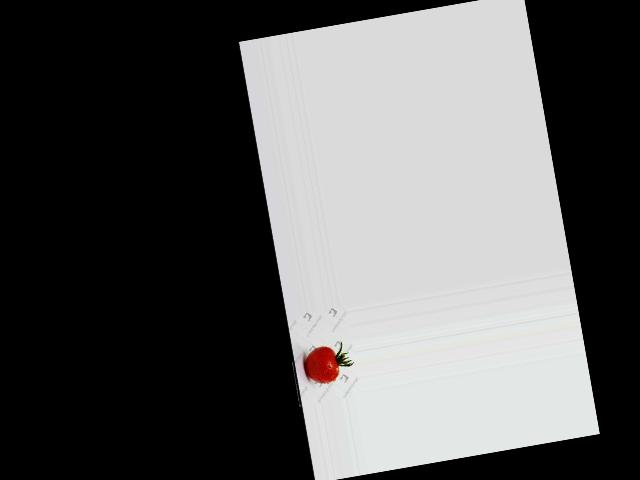tomato: (302, 344, 340, 385)
